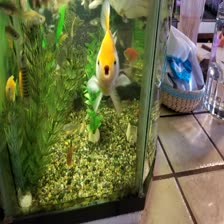Cuezo: (89, 3, 130, 113)
Plano: (1, 72, 18, 104)
